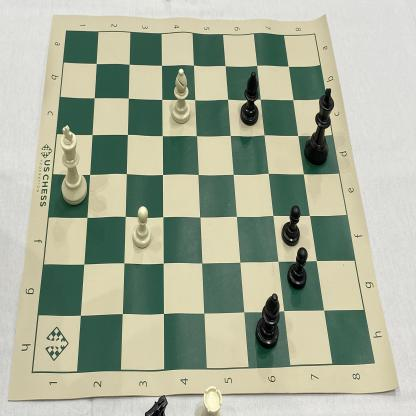black-bishop: (252, 287, 283, 356), (238, 67, 262, 129)
black-king: (302, 83, 338, 171)
black-pawn: (285, 245, 311, 293), (278, 203, 303, 250)
white-bishop: (167, 63, 195, 130)
white-king: (57, 119, 89, 212)
white-pawn: (130, 200, 154, 251)
